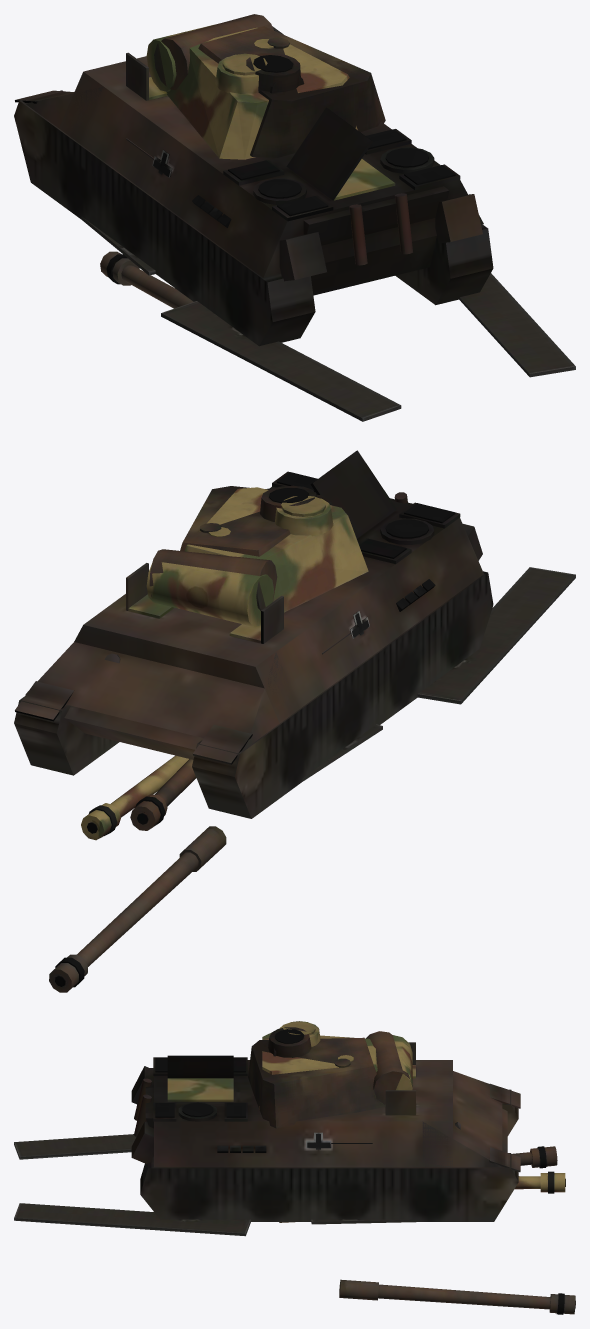
Rendered from panther.glb.
3 renders of one model, top to bottom at view 1: azimuth 30°, elevation 25°; view 2: azimuth 150°, elevation 25°; view 3: azimuth 270°, elevation 25°, orthographic. The views are drawn at different scales.
Parts seen in each view (by area): view 1: hull_blown, turret_ko, turret_ok, hull_trackL, hull_trackR, gun_blown, hull_ok; view 2: hull_blown, turret_ok, turret_ko, hull_trackL, gun_blown, gun_ok, gun_ko, hull_ok; view 3: hull_blown, turret_ko, hull_trackR, gun_blown, turret_ok, hull_trackL, hull_ok, gun_ok, gun_ko.
Boxes of the visible parts, box(x1,y1,x2,y2) form: hull_blown: box(14, 26, 493, 346); turret_ko: box(154, 14, 385, 157); turret_ok: box(146, 24, 357, 159); hull_trackL: box(81, 216, 401, 421); hull_trackR: box(459, 273, 575, 377); gun_blown: box(100, 251, 282, 343); hull_ok: box(149, 77, 395, 200); hull_blown: box(14, 450, 493, 818); turret_ok: box(146, 487, 368, 626); turret_ko: box(149, 485, 332, 610); hull_trackL: box(302, 567, 575, 781); gun_blown: box(49, 826, 226, 992); gun_ok: box(81, 755, 188, 840); gun_ko: box(130, 759, 196, 830); hull_ok: box(128, 594, 260, 643); hull_blown: box(131, 1042, 520, 1221); turret_ko: box(248, 1027, 412, 1128); hull_trackR: box(14, 1203, 420, 1236); gun_blown: box(339, 1279, 575, 1314); turret_ok: box(259, 1021, 412, 1109); hull_trackL: box(14, 1134, 136, 1159); hull_ok: box(167, 1065, 415, 1101); gun_ok: box(515, 1171, 565, 1193); gun_ko: box(512, 1146, 557, 1168).
Size of the model in its own units: 4.62 by 5.37 by 10.25.
Materials: 21 (21 with a texture image).
